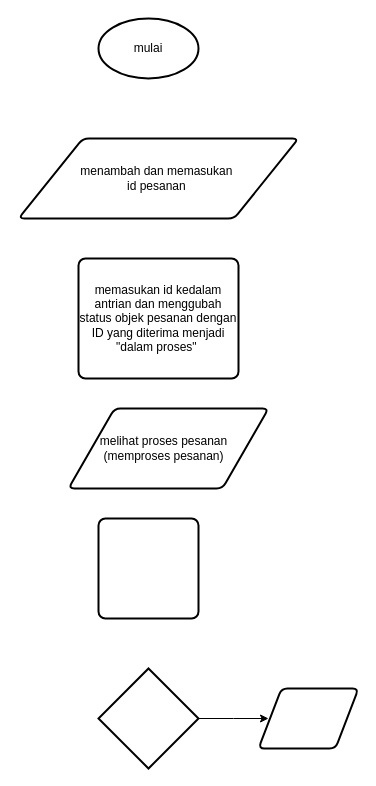
Image size: 376x786. Some labels were removed from this diagram. The shapes that lost their labels are listed below. From the top down, each one's box as (x1, y1, x2, y2) in pixels, then its label:
(97, 517, 199, 619): Mengecek pesanan/antrian paling depan
(97, 667, 199, 769): terdapat antrian?
